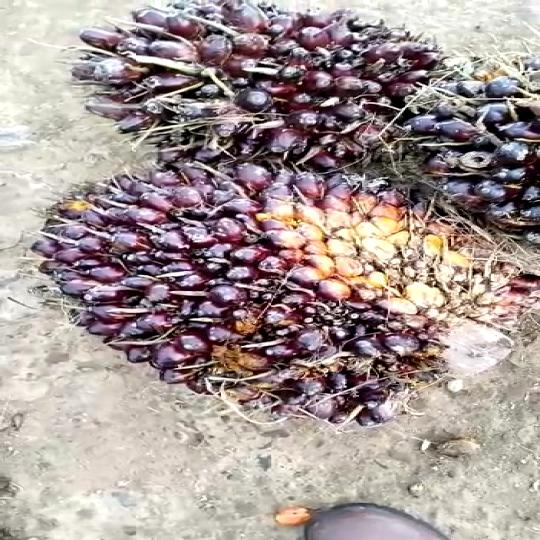kurang masak: (35, 168, 530, 422), (44, 0, 409, 199), (389, 45, 540, 224)
